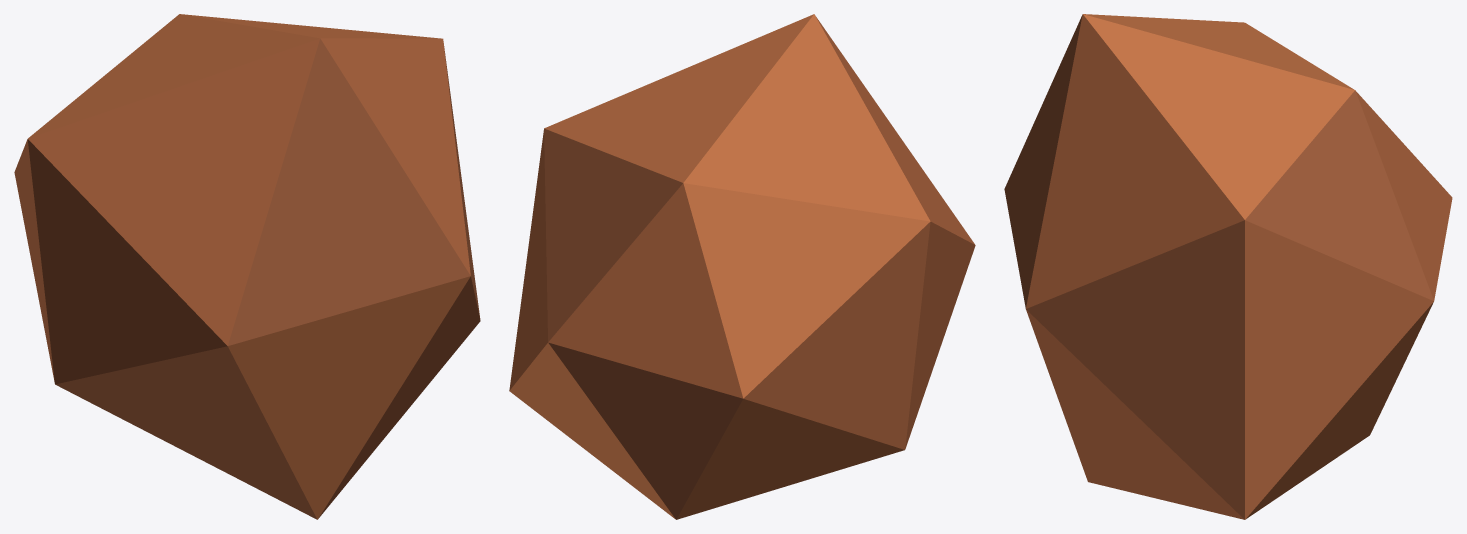
Rendered from SM_Rock_3.glb.
3 renders of one model, left to right at view 1: azimuth 30°, elevation 25°; view 2: azimuth 150°, elevation 25°; view 3: azimuth 270°, elevation 25°, orthographic. The views are drawn at different scales.
Visible parts, largest first — view 1: SM_Rock_3; view 2: SM_Rock_3; view 3: SM_Rock_3.
Part boxes in pixels (box(x1,y1,x2,y2)): SM_Rock_3: box(14, 14, 480, 519); SM_Rock_3: box(509, 14, 975, 519); SM_Rock_3: box(1004, 14, 1452, 519).
Size of the model in its own units: 1.92 by 1.96 by 1.7.
Materials: 1 (1 with a texture image).
